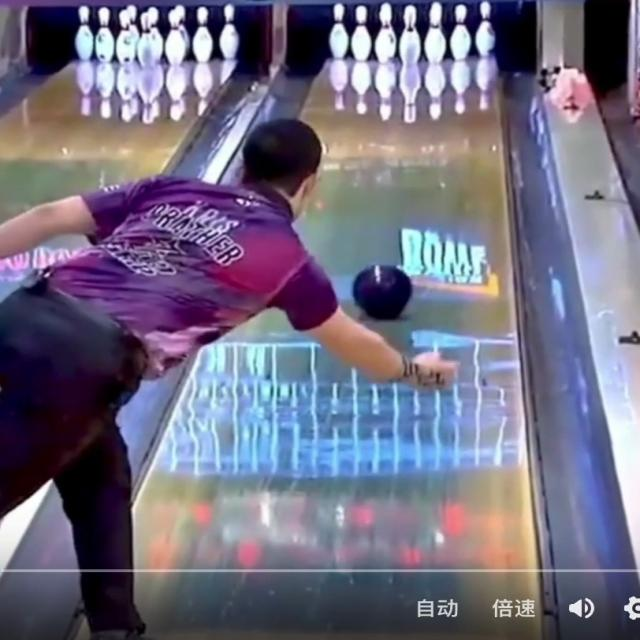alley: (136, 60, 541, 639)
balls: (352, 265, 411, 320)
bottle: (329, 3, 446, 64), (449, 4, 470, 60), (474, 2, 494, 57)
